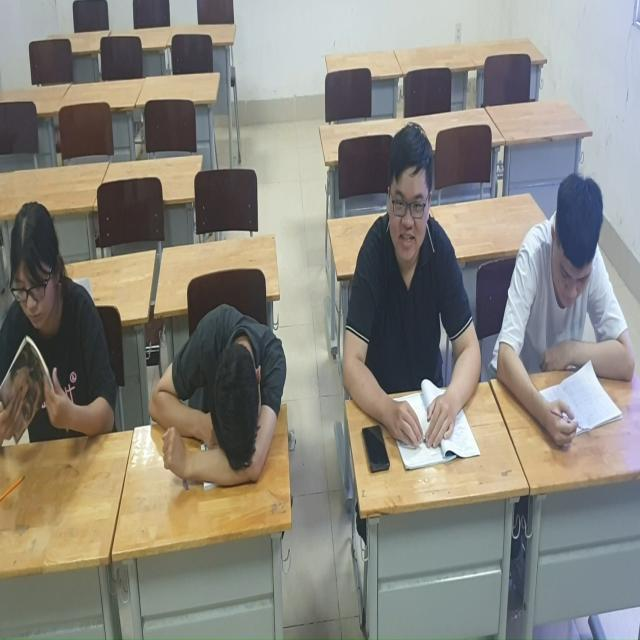read: (331, 122, 488, 490), (486, 156, 636, 465), (1, 204, 128, 502)
sleep: (147, 283, 297, 513)
